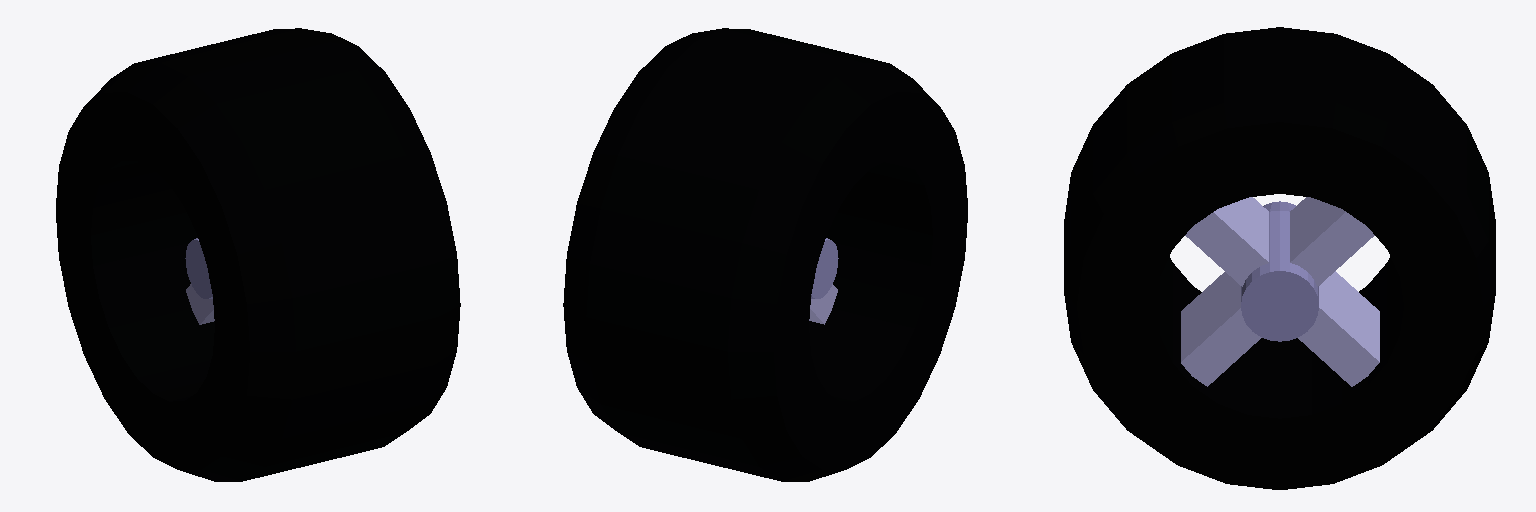
Rendered from tire2.obj.
The picture shows the model from 3 angles: view 1: azimuth 30°, elevation 25°; view 2: azimuth 150°, elevation 25°; view 3: azimuth 270°, elevation 25°; orthographic projection.
Visible parts, largest first — view 1: mergedBlocks; view 2: mergedBlocks; view 3: mergedBlocks.
Boxes of the visible parts, <box> form: mergedBlocks: <box>56,28,460,481</box>; mergedBlocks: <box>563,28,967,481</box>; mergedBlocks: <box>1064,27,1495,489</box>.
Size of the model in its own units: 0.1017 by 0.1848 by 0.1848.